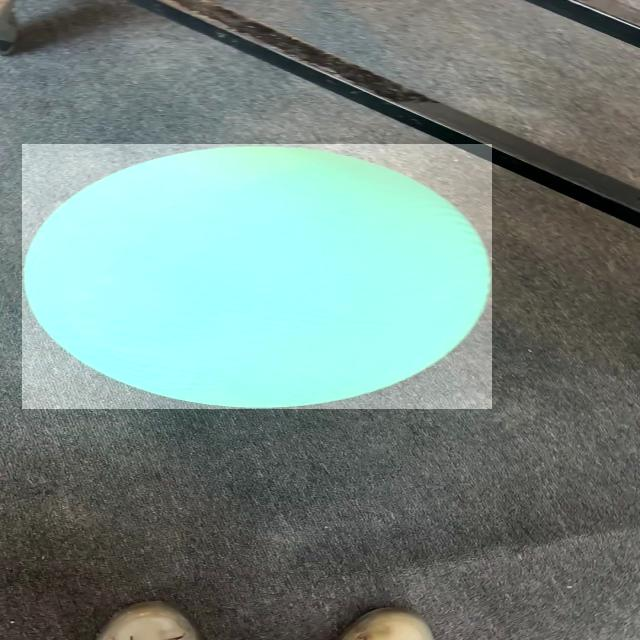Algae: (22, 144, 492, 409)
